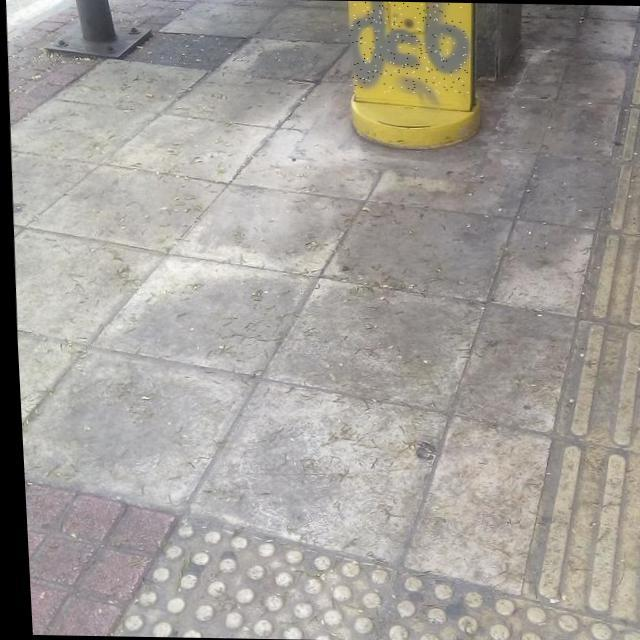-: (346, 0, 469, 94)
